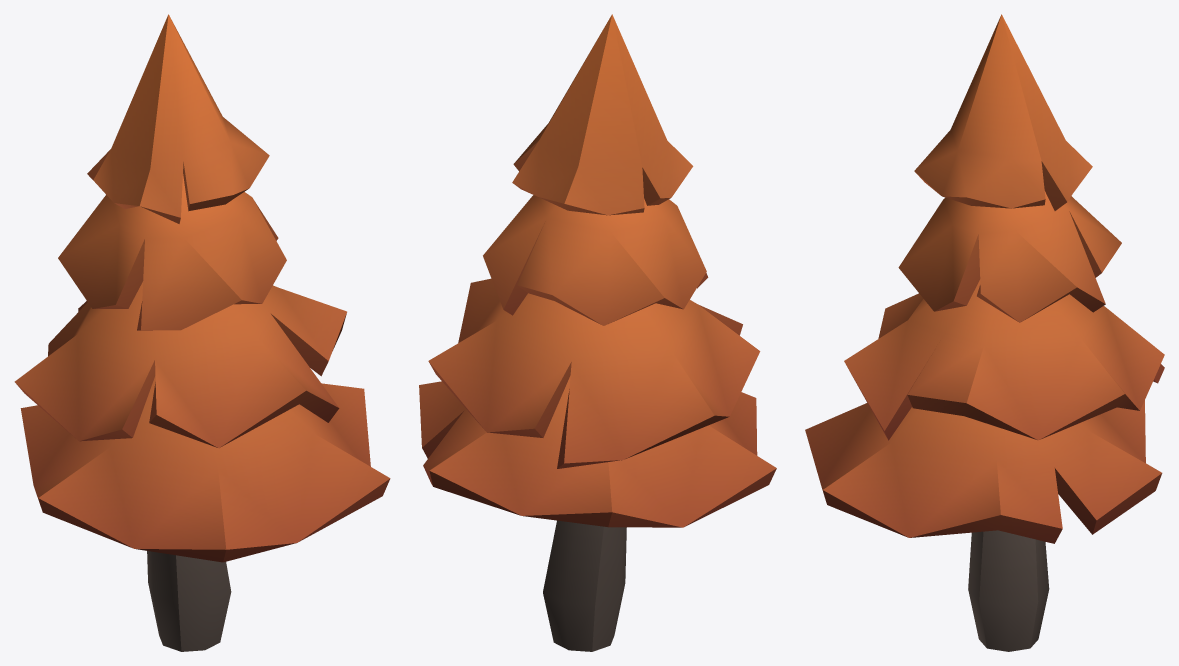
File: tree_pine_orange_medium.obj
The picture shows the model from 3 angles, left to right: view 1: azimuth 30°, elevation 25°; view 2: azimuth 150°, elevation 25°; view 3: azimuth 270°, elevation 25°; orthographic projection. The views are drawn at different scales.
Visible parts, largest first — view 1: tree_pine_orange_medium_Cube.077; view 2: tree_pine_orange_medium_Cube.077; view 3: tree_pine_orange_medium_Cube.077.
Part boxes in pixels (x1=…): tree_pine_orange_medium_Cube.077: x1=14, y1=14, x2=390, y2=651; tree_pine_orange_medium_Cube.077: x1=419, y1=14, x2=776, y2=651; tree_pine_orange_medium_Cube.077: x1=805, y1=14, x2=1164, y2=651.
Bounding box in the file's own units: 3.33 × 5.87 × 3.12.
1 material, 1 textured.
